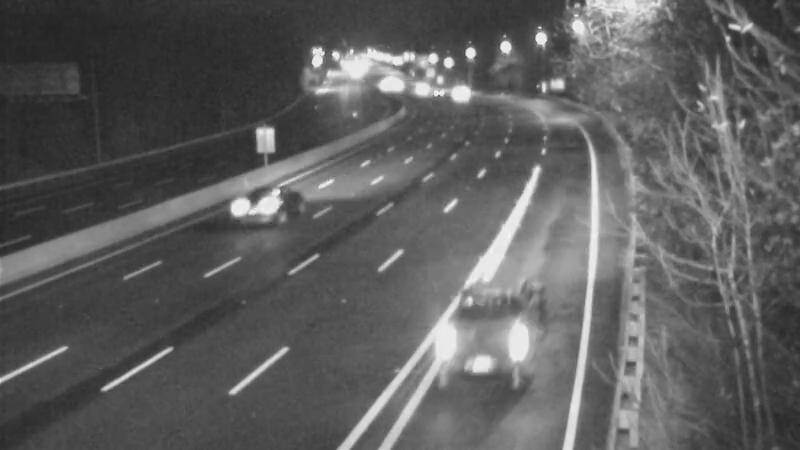vehicle: (430, 284, 540, 394), (229, 167, 309, 247), (357, 59, 407, 109), (394, 61, 444, 111), (409, 68, 459, 118), (430, 70, 480, 120)
